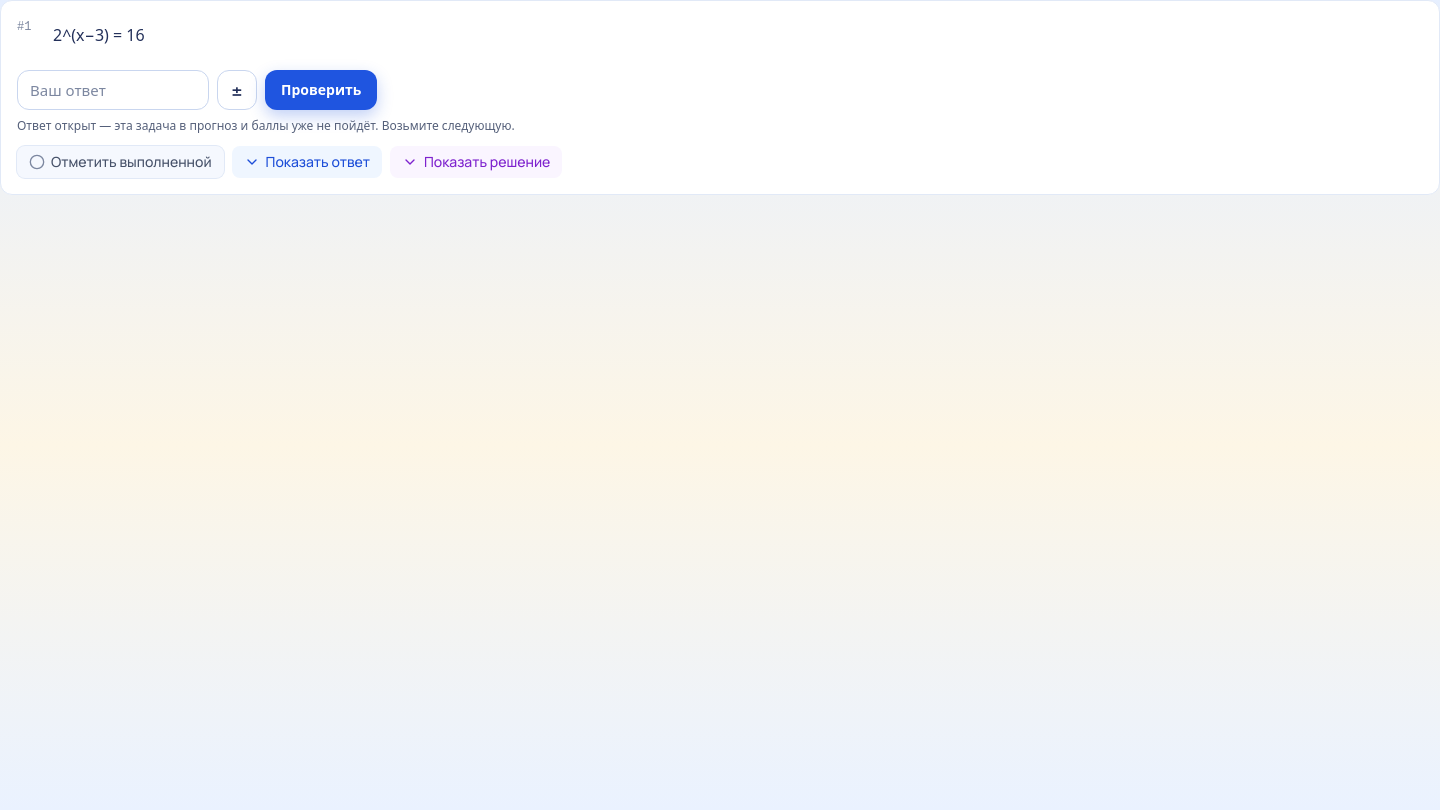
Test: TaskDisplayCard — проверка ответа (§256) › верно после раскрытия — «Верно, но ответ был открыт», без баллов и тоста
Type "7" into the field with test id "task-answer-input". click: (113, 90)
box: [17,70,209,110]
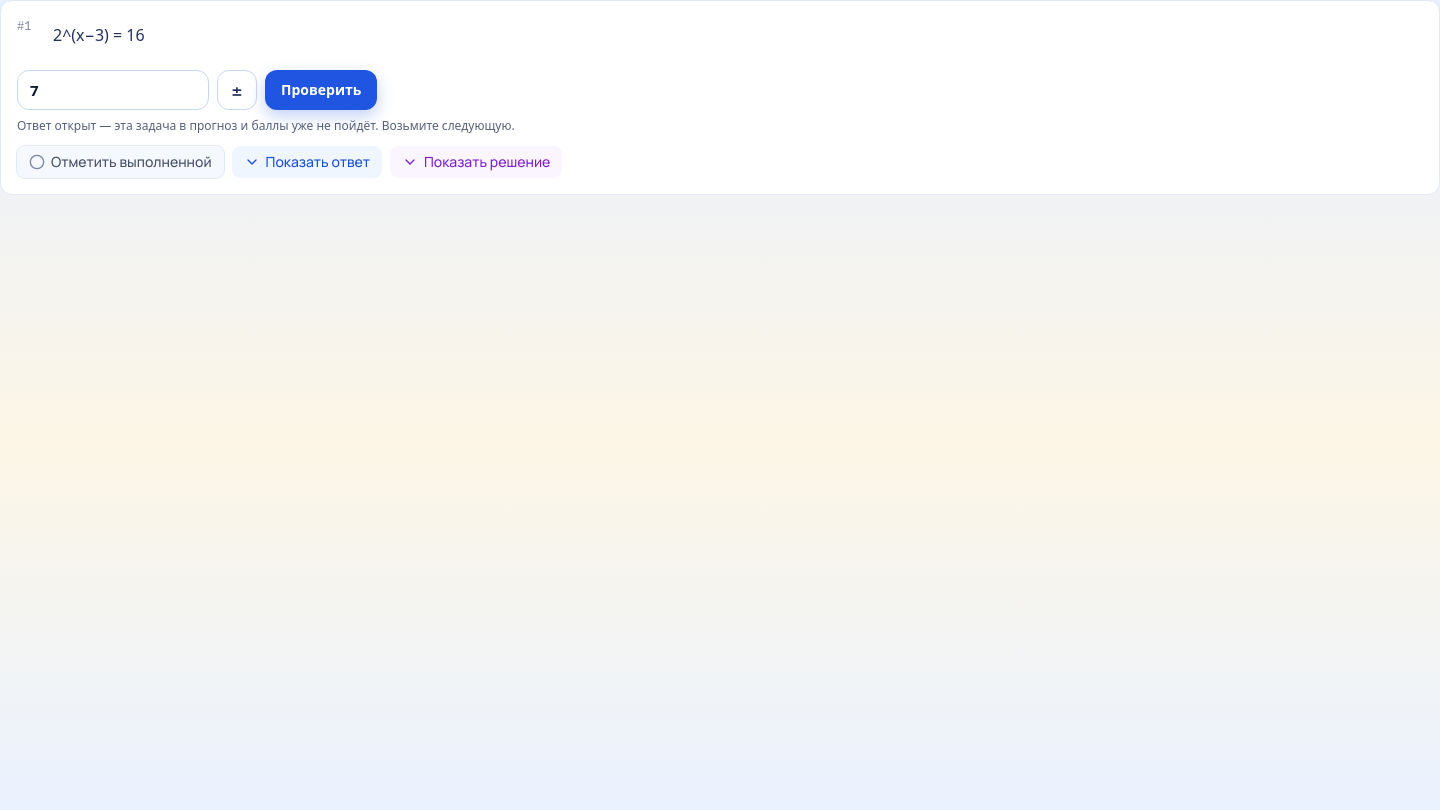
Click the button with test id "task-answer-submit". click: (321, 90)
box: [265,70,377,110]
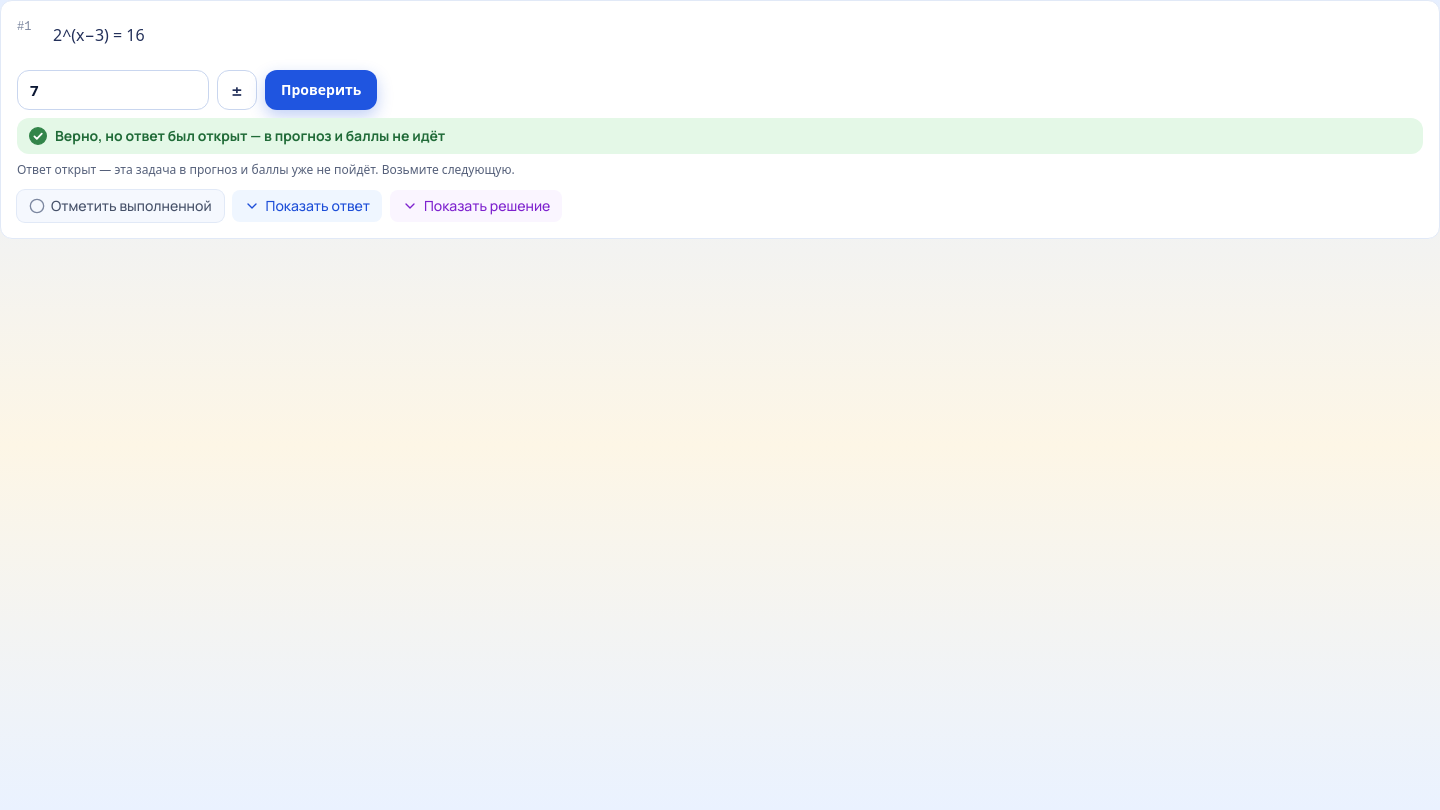
Now the message with test id "task-answer-result" reads "Верно, но ответ был открыт — в прогноз и баллы не идёт", box [55,126,445,145]
